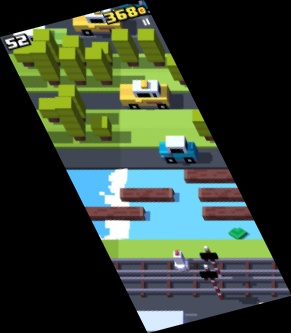car: (118, 79, 171, 109), (72, 9, 123, 34), (14, 25, 69, 48), (158, 135, 199, 165), (114, 1, 153, 14)
duck: (171, 248, 191, 274)
light off: (198, 263, 227, 301), (199, 245, 224, 278)
lilypad: (229, 227, 249, 240)
log: (75, 205, 146, 220), (201, 207, 269, 220), (184, 169, 244, 182), (198, 188, 256, 201), (120, 188, 174, 201)
rail: (102, 258, 291, 276), (118, 277, 291, 295)
tree: (55, 97, 88, 142), (33, 40, 64, 86), (112, 28, 141, 67), (138, 28, 167, 67), (59, 85, 86, 125), (33, 29, 61, 67), (86, 48, 114, 85), (61, 47, 87, 85), (166, 54, 191, 87), (191, 110, 217, 141), (63, 35, 87, 68), (90, 114, 114, 142), (92, 41, 114, 68), (39, 98, 61, 123), (15, 42, 36, 67)
water: (64, 169, 266, 240)
